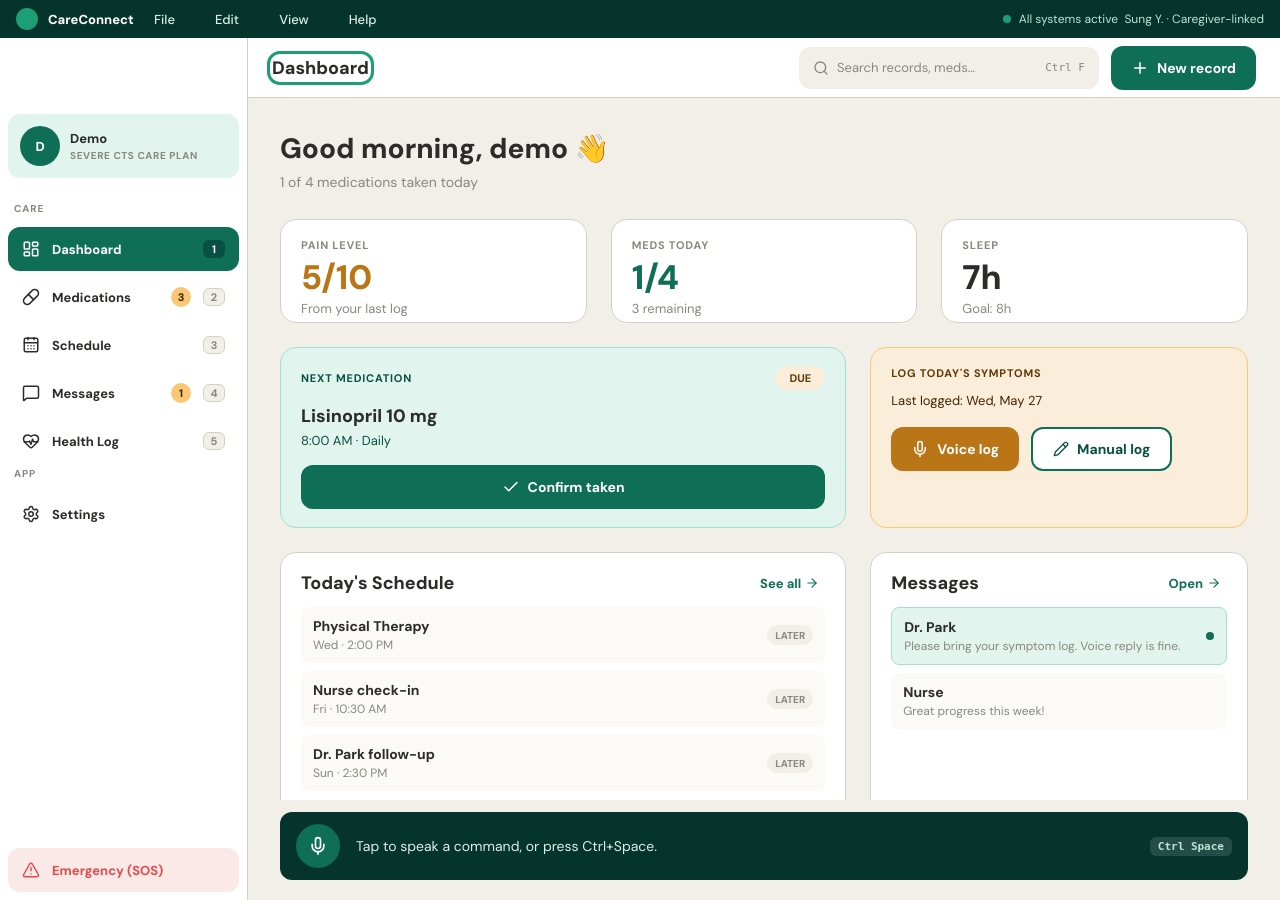
Test: GlobalSearchOverlay › navigates to Medications with the matching item selected
Press f in the heading "Dashboard", box top-left (272, 56), bottom-right (369, 80)
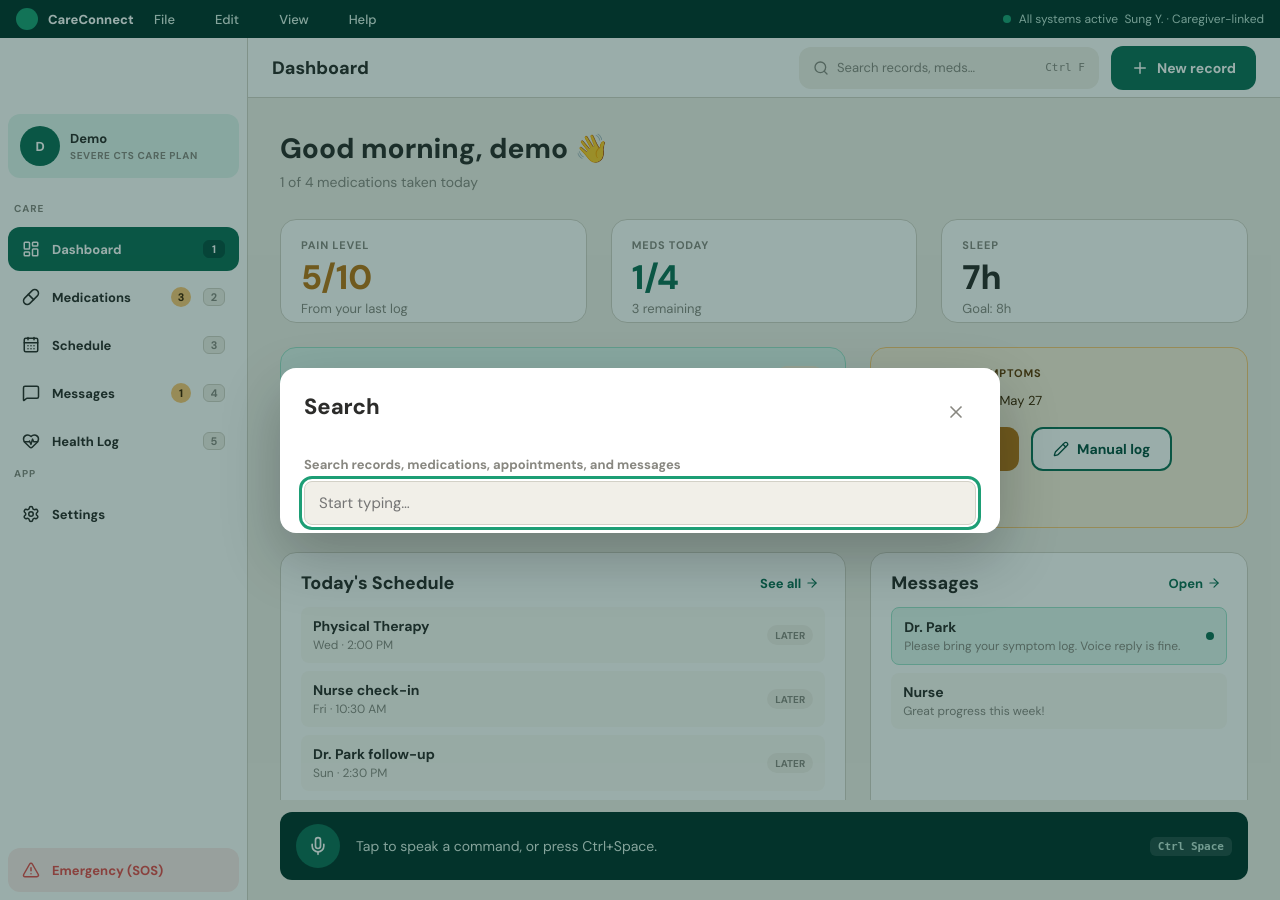
Type "aspirin" into the search field labelled "Search records, medications, appointments, and messages" at point(640, 502), box top-left (304, 480), bottom-right (976, 524)
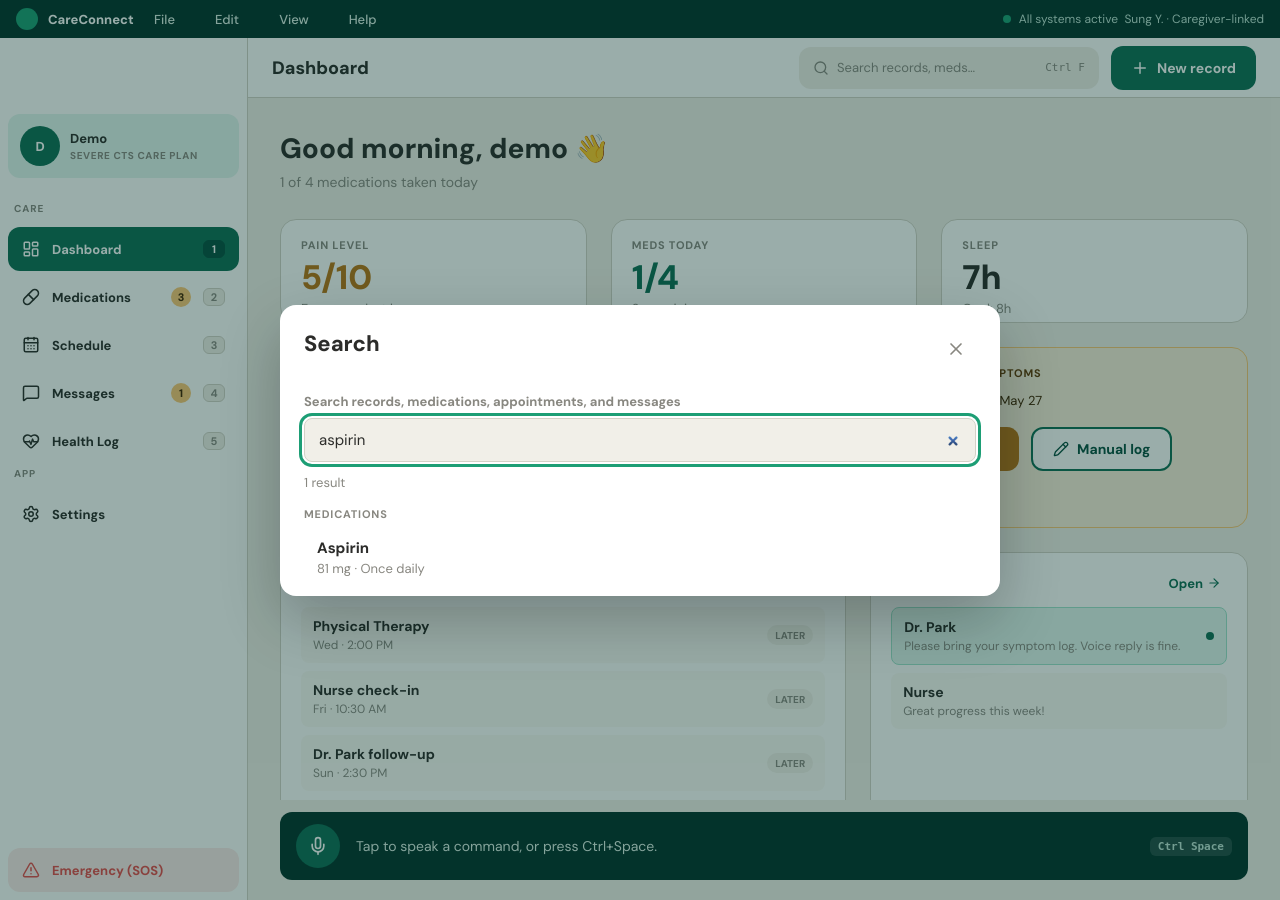
Click the button "Aspirin 81 mg · Once daily" at point(343, 548), box top-left (304, 526), bottom-right (976, 588)
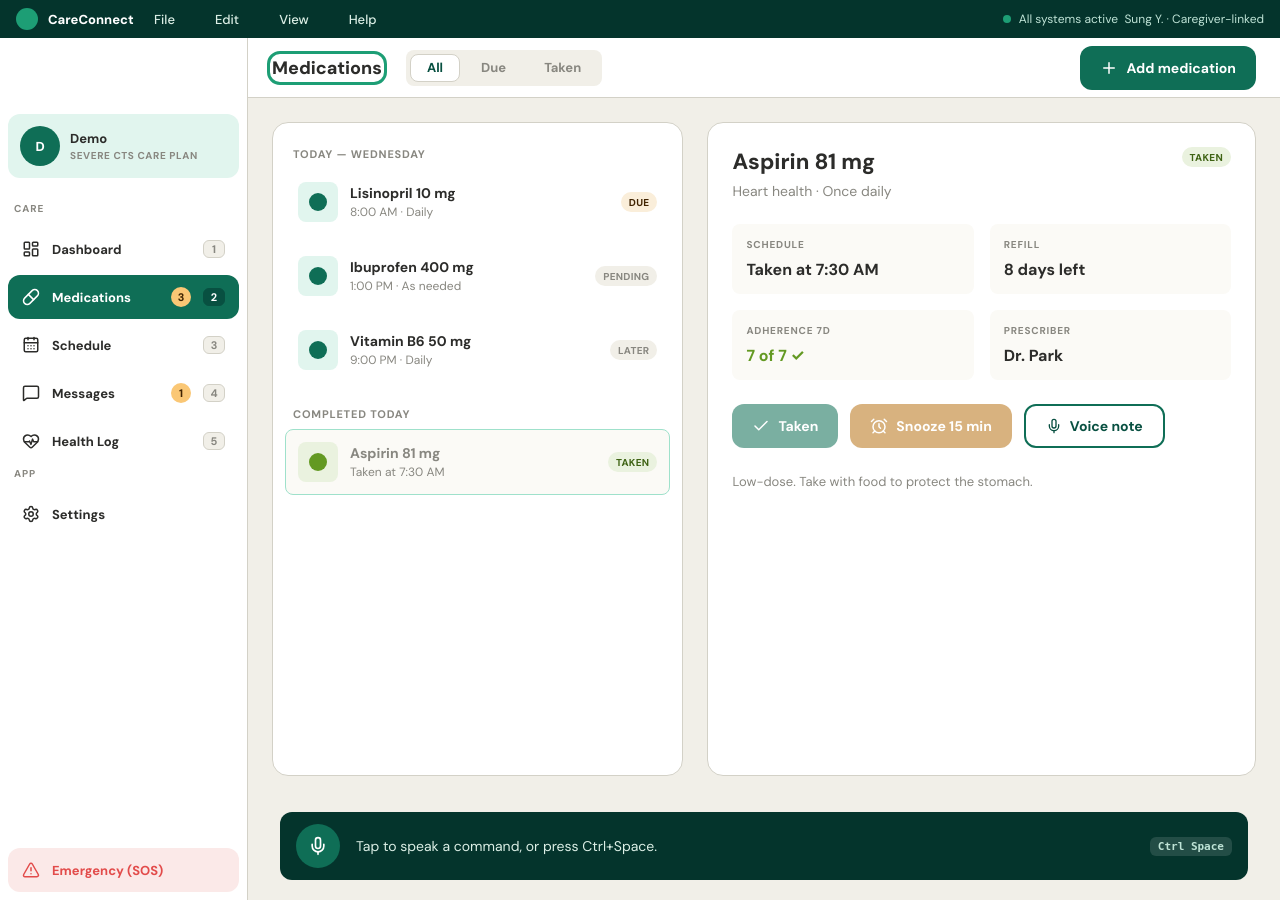
Check: the heading "Medications" is shown, box top-left (272, 56), bottom-right (382, 80)
Check: the heading "Aspirin 81 mg" is shown, box top-left (732, 147), bottom-right (892, 176)
Check: the dialog is gone
